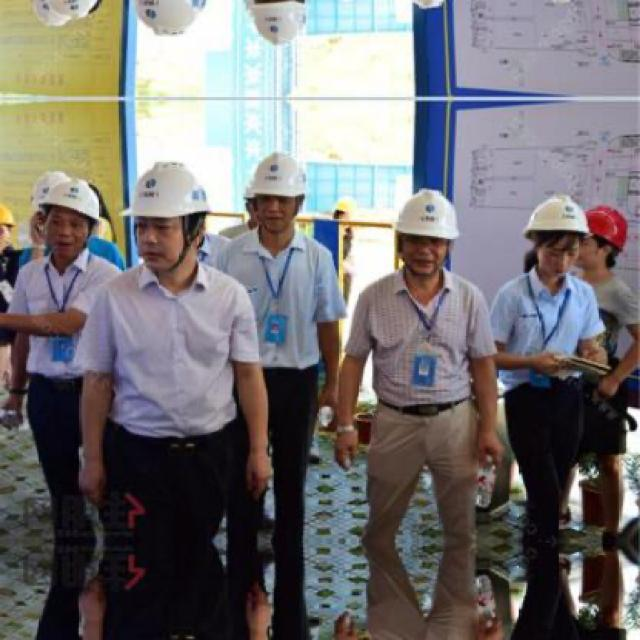con casco: (96, 159, 224, 297), (378, 191, 488, 300), (215, 153, 318, 265), (519, 176, 605, 288), (31, 166, 116, 255), (528, 192, 601, 272)
